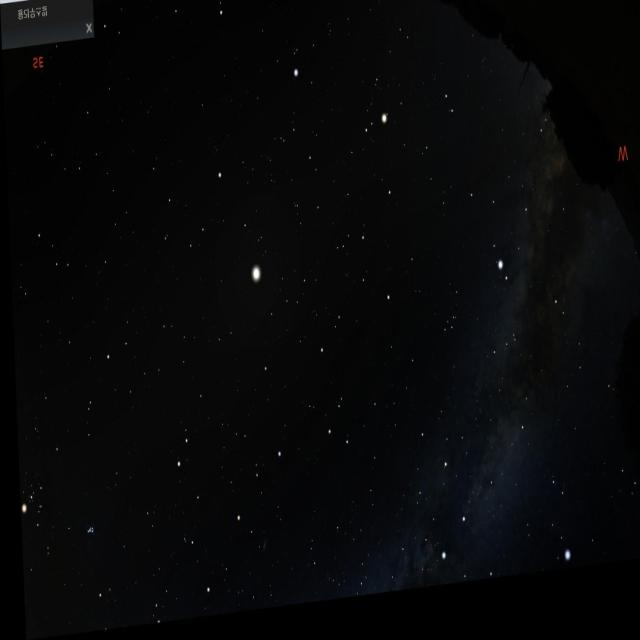aquila: (453, 115, 572, 318)
cygnus: (425, 433, 528, 597)
lyra: (538, 492, 568, 586)
pleiades: (75, 511, 94, 548)
taurus: (14, 419, 96, 567)
